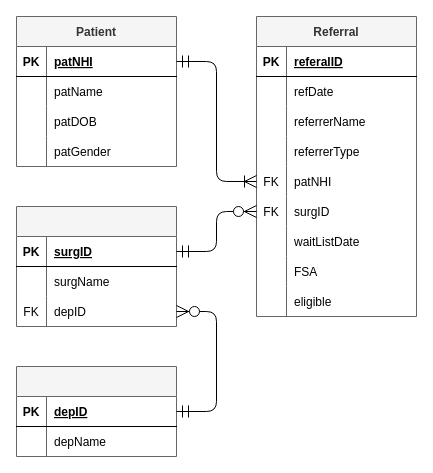
Image size: 433x473. Some labels were removed from this diagram. Each missing label, with the box of its shape:
Department: (16, 366, 176, 456)
Surgeon: (16, 206, 176, 326)
